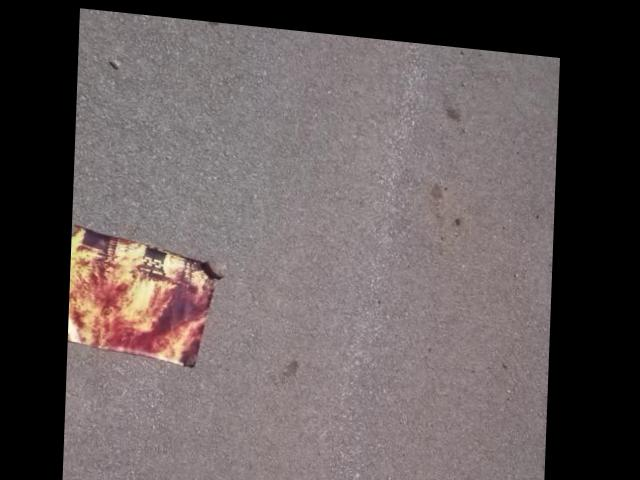fire-poster: (71, 220, 231, 368)
